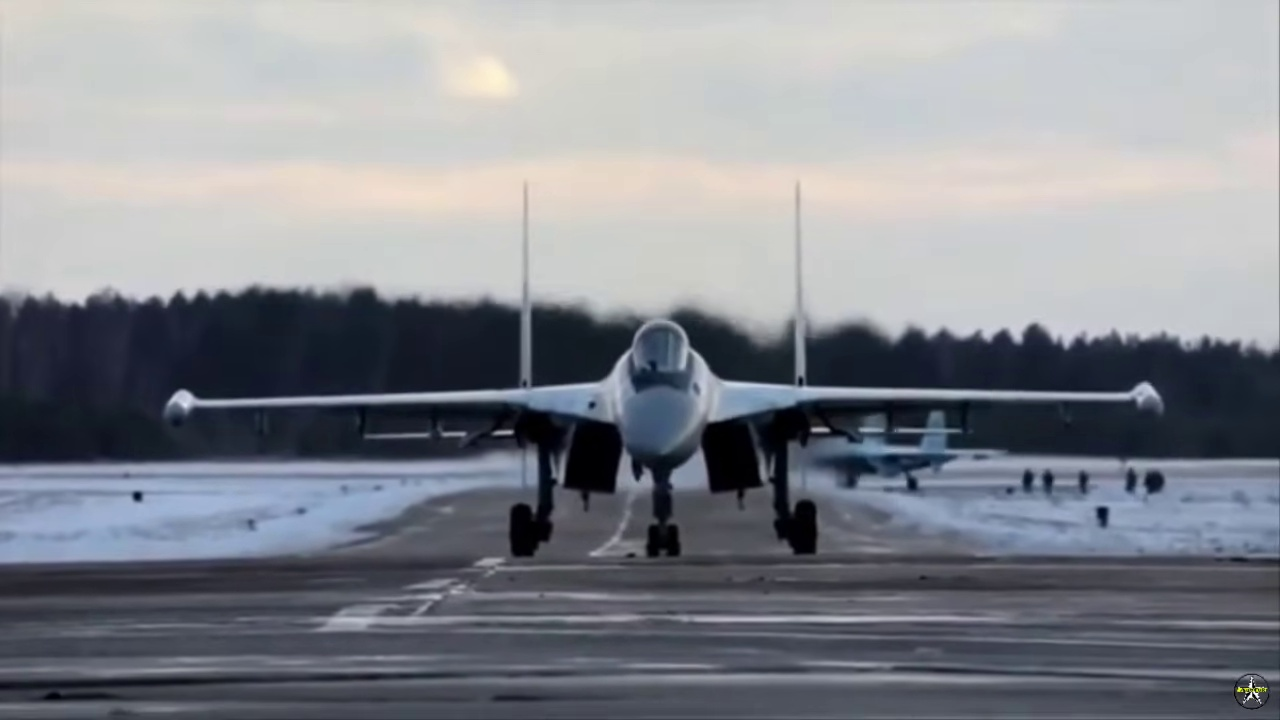Su35: (155, 173, 1175, 569)
